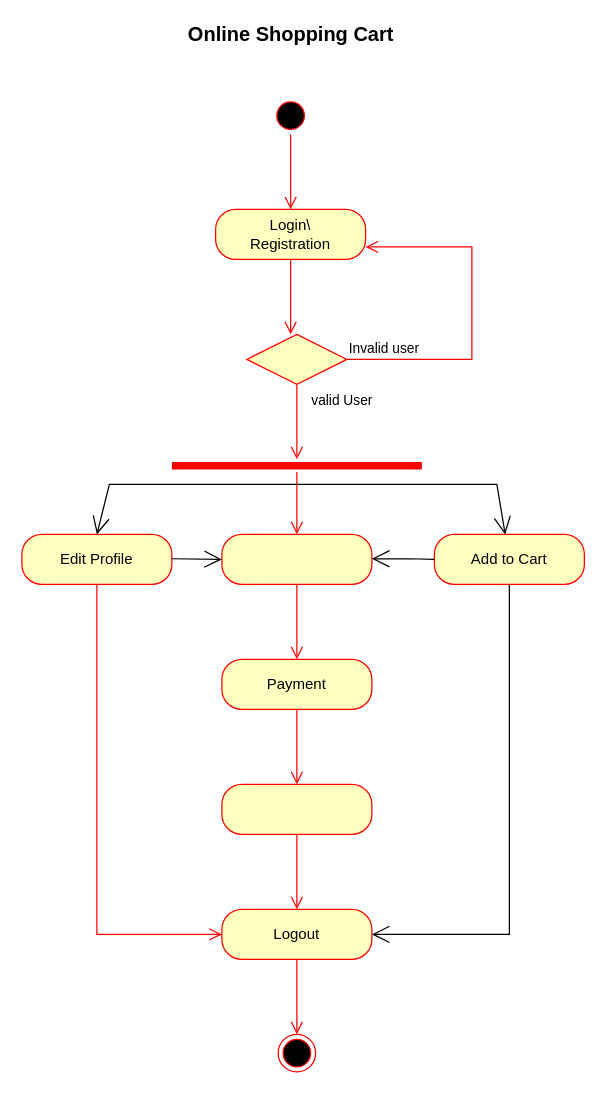
The diagram is 606 pixels wide and 1094 high, and some of its shapes have lost their labels. Each missing label, with the box of its shape:
Buy Products: (221, 533, 372, 584)
Check: (246, 333, 347, 384)
Confirm Order: (221, 783, 372, 834)
